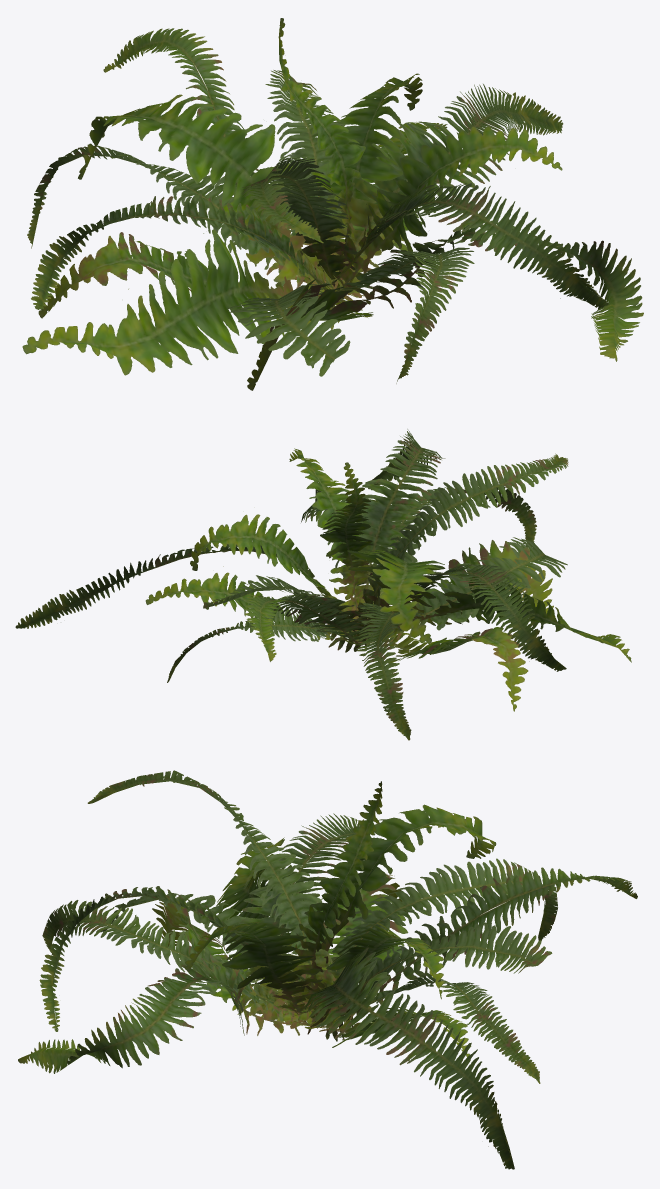
File: fern_tall.glb
The picture shows the model from 3 angles, top to bottom: view 1: azimuth 30°, elevation 25°; view 2: azimuth 150°, elevation 25°; view 3: azimuth 270°, elevation 25°; orthographic projection. The views are drawn at different scales.
Parts seen in each view (by area): view 1: fern_02_c; view 2: fern_02_c; view 3: fern_02_c.
Boxes of the visible parts, left/top/right/bottom form: fern_02_c: left=22, top=18, right=643, bottom=390; fern_02_c: left=15, top=429, right=631, bottom=740; fern_02_c: left=18, top=770, right=637, bottom=1169.
Size of the model in its own units: 0.8743 by 0.349 by 0.7652.
Materials: 1 (1 with a texture image).
